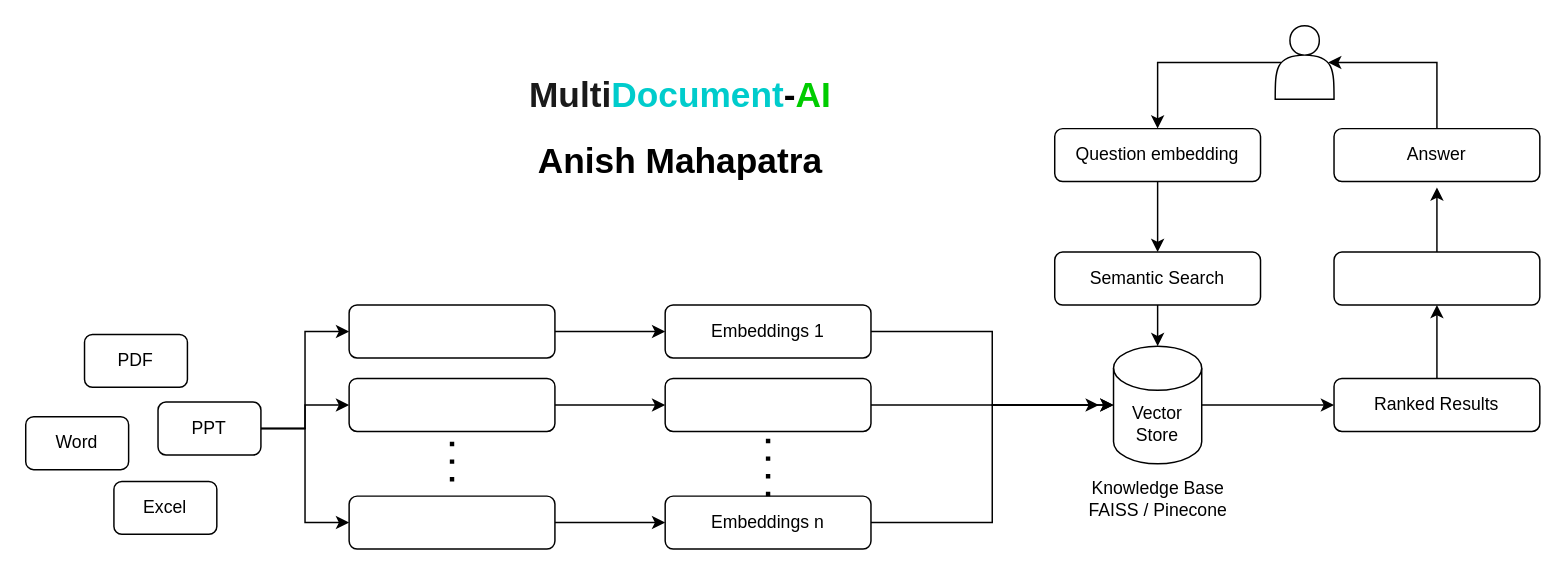
The diagram is 1566 pixels wide and 575 high, and some of its shapes have lost their labels. The shapes that lost their labels are listed below. From the top down, each one's centre as x and y in pixels, then its label:
At [1436,278]: "LLM (OpenAI, HuggingFace)".
At [451,331]: "Text Chunk 1".
At [451,404]: "Text Chunk 2".
At [767,404]: "Embeddings 2".
At [451,522]: "Text Chunk n".
